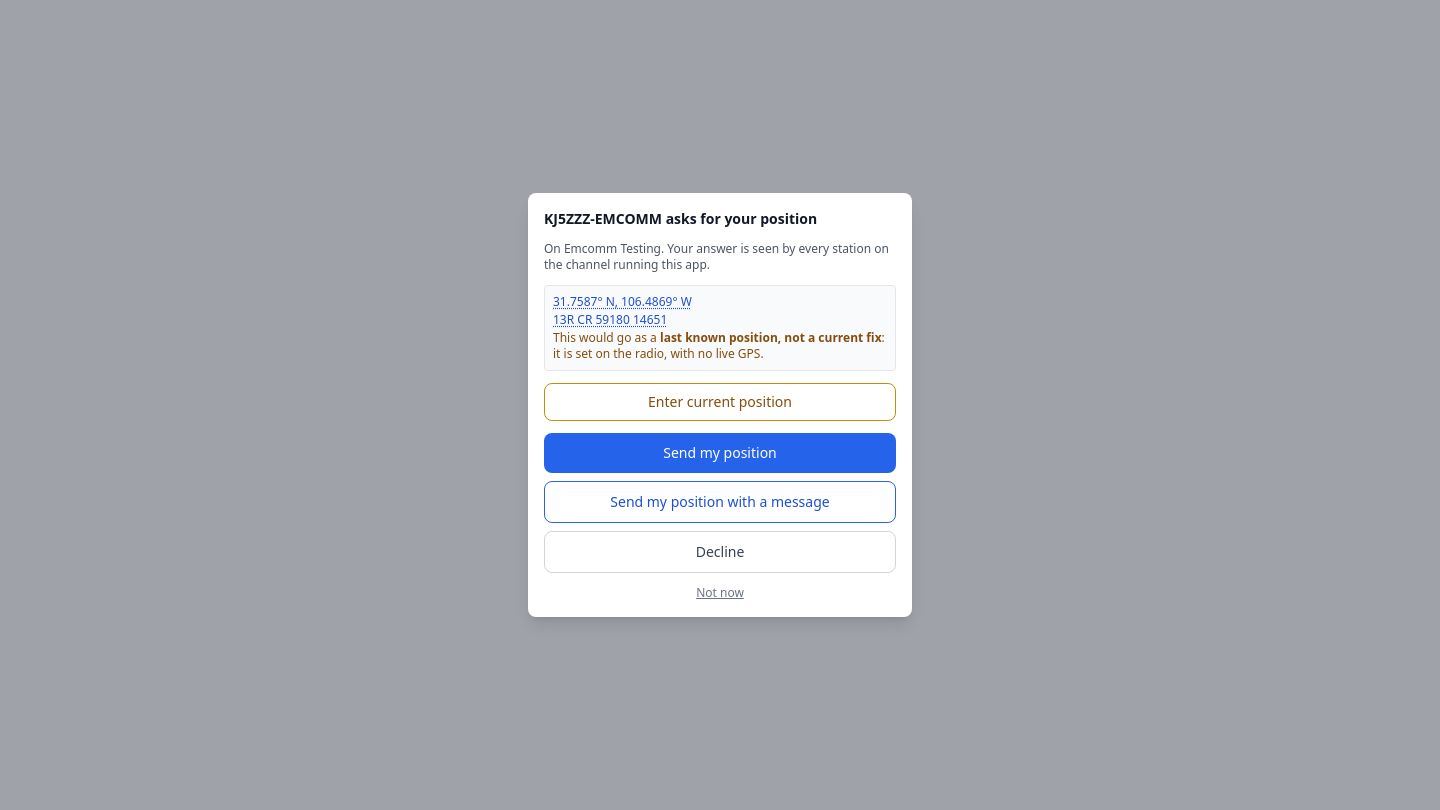
the prompt › says so, and stays up, when the answer does not go
Click the button "Send my position". click: click(720, 453)
box: [544,433,896,473]
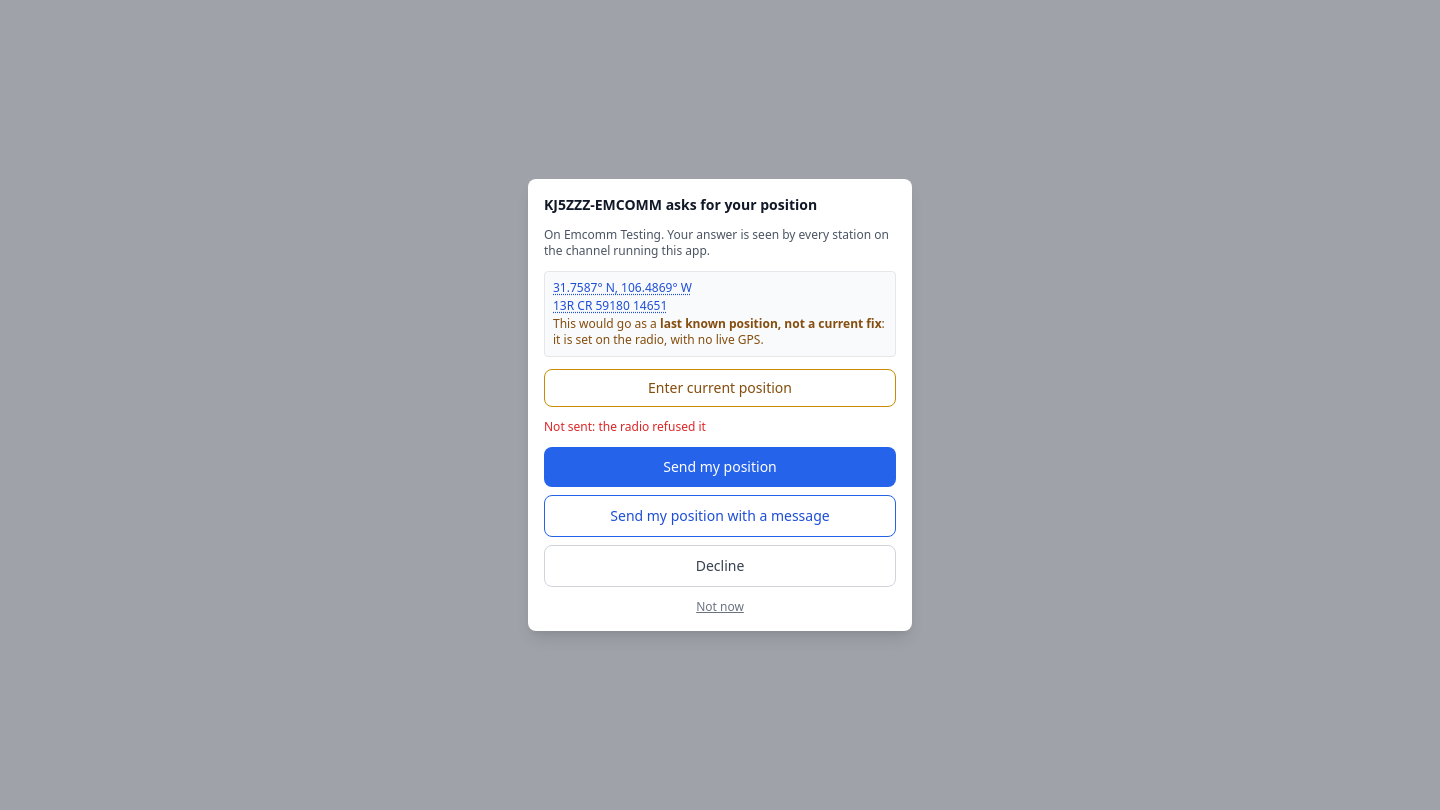
Expected: the text "asks for your position" is shown, [544,195,817,214]
Now the text "Not sent: the radio refused it" is shown, box [544,418,706,435]
